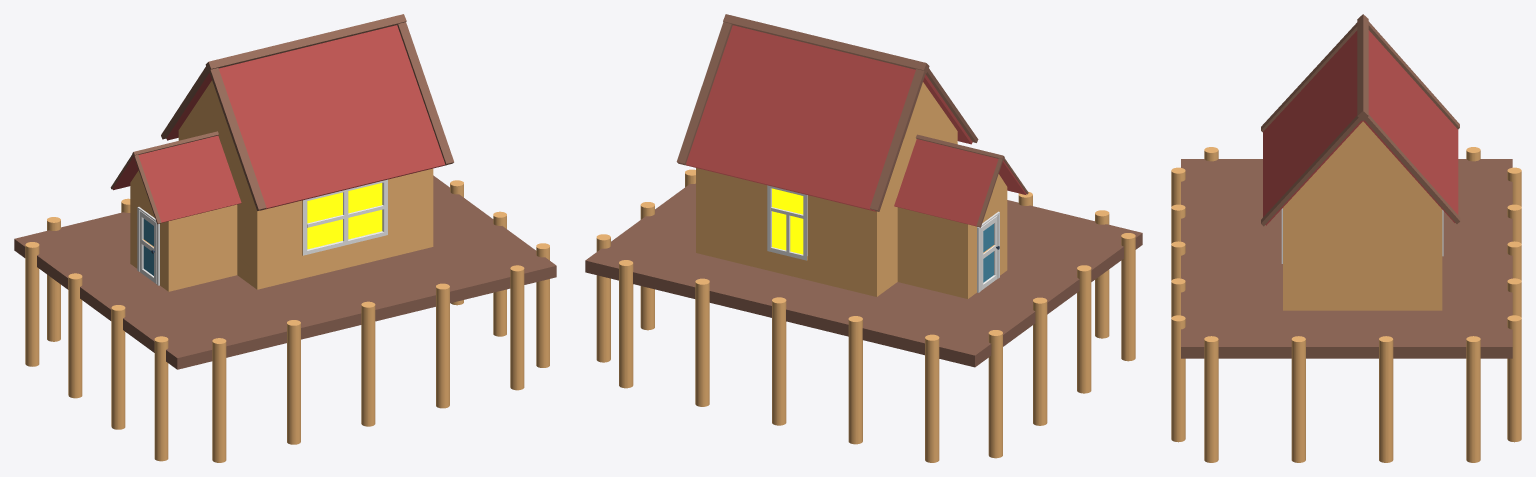
Rendered from fish_house.glb.
3 renders of one model, left to right at view 1: azimuth 30°, elevation 25°; view 2: azimuth 150°, elevation 25°; view 3: azimuth 270°, elevation 25°, orthographic. The views are drawn at different scales.
Visible parts, largest first — view 1: Мостки, Крыша, Дом, Бревна, Малая крыша, Рамка крыши, Рамка малой крыши; view 2: Мостки, Крыша, Дом, Бревна, Малая крыша, Рамка крыши, Рамка малой крыши; view 3: Мостки, Дом, Крыша, Бревна, Рамка крыши.
Boxes of the visible parts, x1,y1,x2,y2 form: Мостки: (14, 175, 556, 369); Крыша: (166, 25, 445, 210); Дом: (130, 80, 433, 291); Бревна: (25, 180, 549, 462); Малая крыша: (112, 135, 241, 222); Рамка крыши: (161, 14, 453, 210); Рамка малой крыши: (110, 131, 218, 224); Мостки: (585, 183, 1142, 367); Крыша: (686, 25, 972, 211); Дом: (696, 82, 1007, 298); Бревна: (596, 169, 1135, 462); Малая крыша: (894, 139, 1026, 226); Рамка крыши: (676, 14, 978, 211); Рамка малой крыши: (916, 134, 1028, 227); Мостки: (1181, 159, 1512, 358); Дом: (1281, 121, 1443, 310); Крыша: (1263, 30, 1458, 225); Бревна: (1171, 147, 1521, 462); Рамка крыши: (1261, 14, 1460, 226).
Size of the model in its own units: 10.57 by 8.01 by 8.02.
